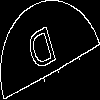D: (25, 24, 61, 81)
